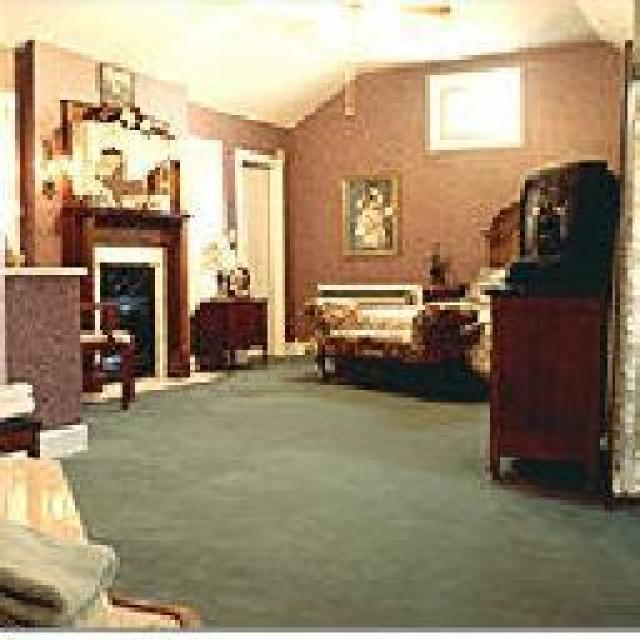cupboard: (485, 285, 605, 490)
curtains: (608, 38, 638, 502)
rugs: (50, 360, 638, 628)
television: (515, 158, 617, 282)
windows: (423, 60, 525, 150)
